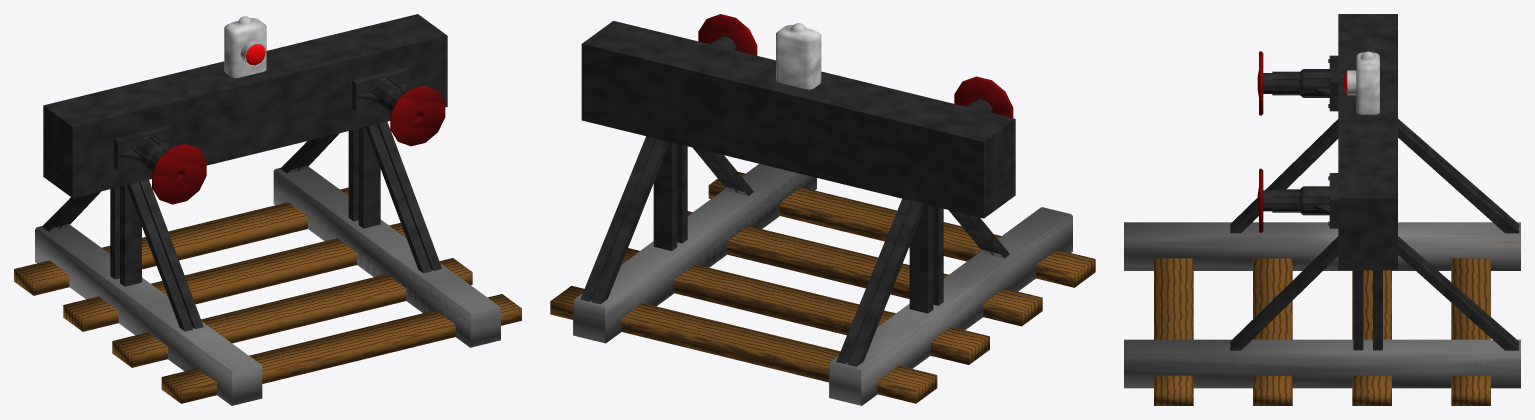
File: BumperRail.fbx
3 views of the same model, side by side, from view 1: azimuth 30°, elevation 25°; view 2: azimuth 150°, elevation 25°; view 3: azimuth 270°, elevation 25° (orthographic). The views are drawn at different scales.
Visible parts, largest first — view 1: BumperRail, BumperRailBase; view 2: BumperRail, BumperRailBase; view 3: BumperRailBase, BumperRail.
Part boxes in pixels (left/top/right/bottom): BumperRail: left=42, top=14, right=447, bottom=331; BumperRailBase: left=14, top=166, right=521, bottom=405; BumperRail: left=580, top=14, right=1015, bottom=366; BumperRailBase: left=550, top=164, right=1095, bottom=405; BumperRailBase: left=1124, top=222, right=1520, bottom=405; BumperRail: left=1230, top=14, right=1519, bottom=350.
Bounding box in the file's own units: 220 × 150 × 200.
